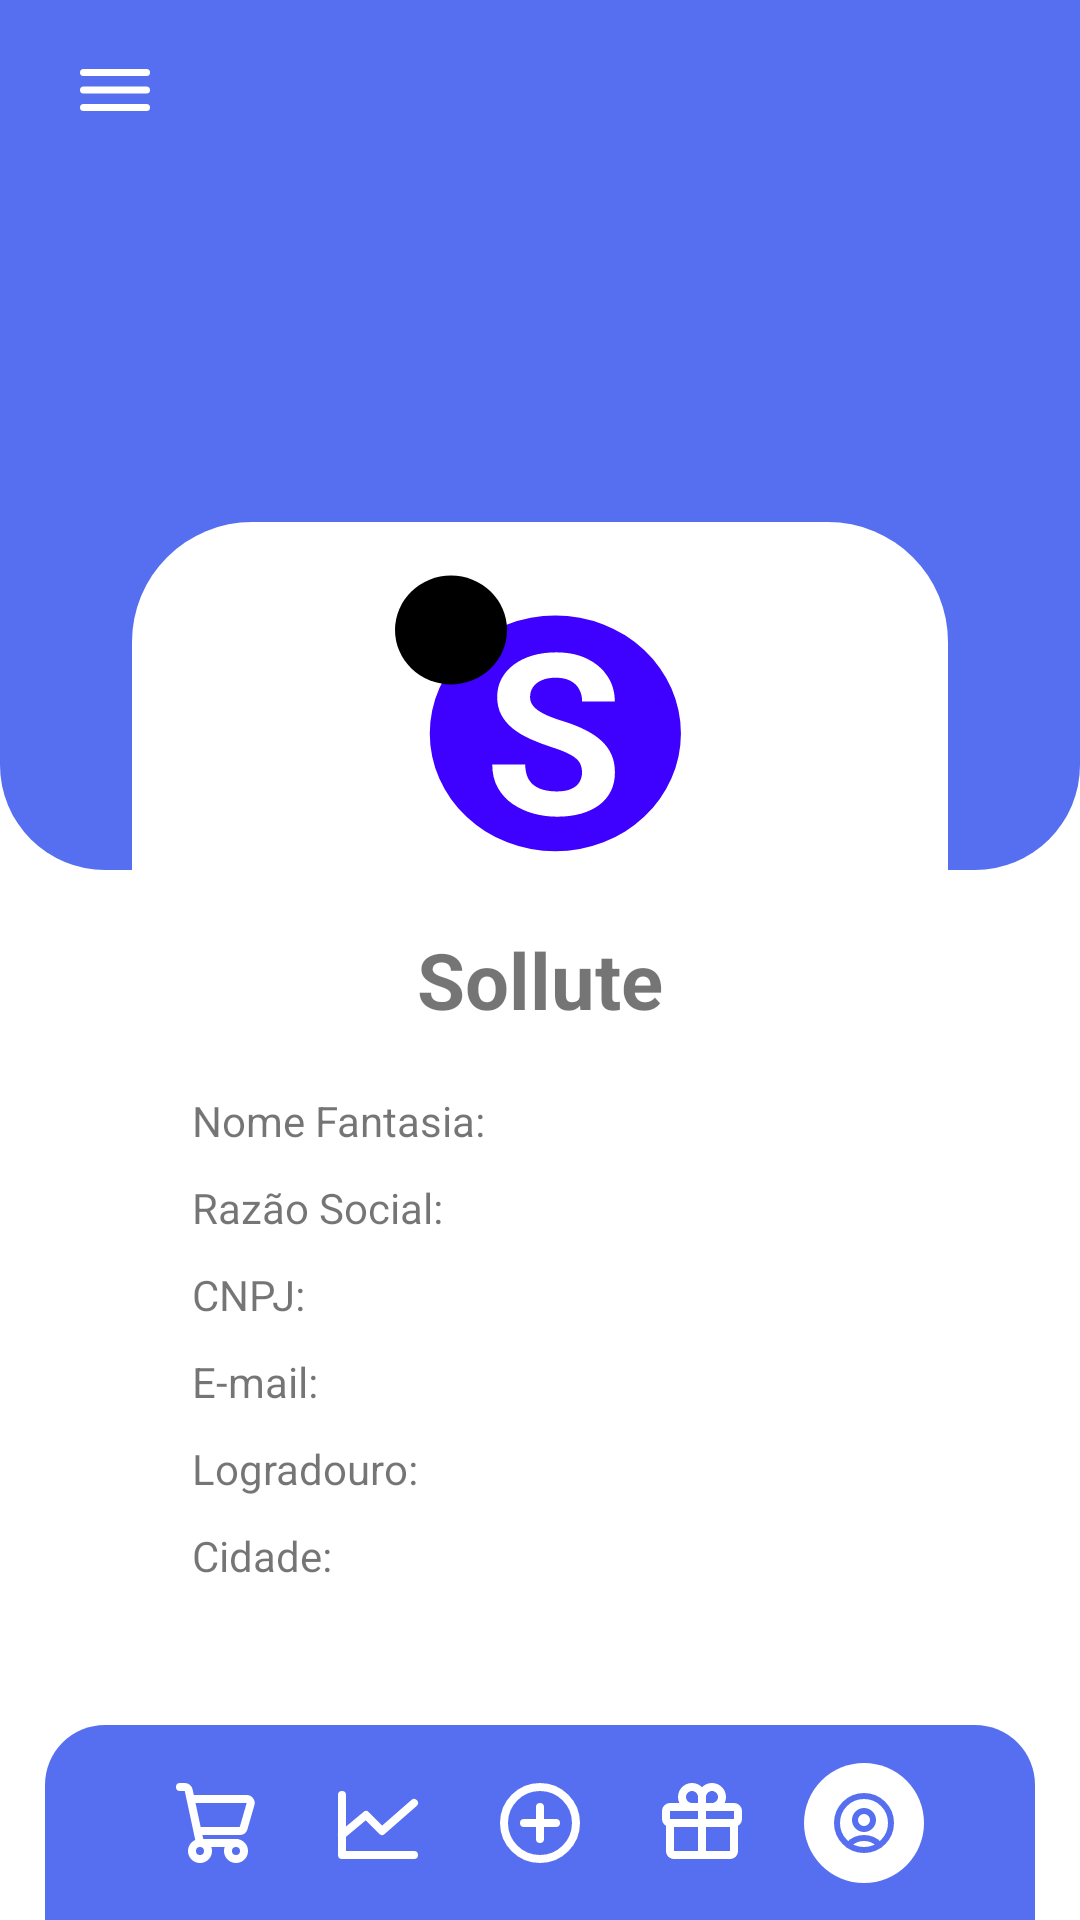

Where to tap for icons on this 1080*1920 app screen, as (x,y):
add plus circle: (540,1823)
chart line: (378,1825)
gift: (702,1821)
hamburger lg: (115,90)
shopping cart: (215,1823)
user: (864,1823)
